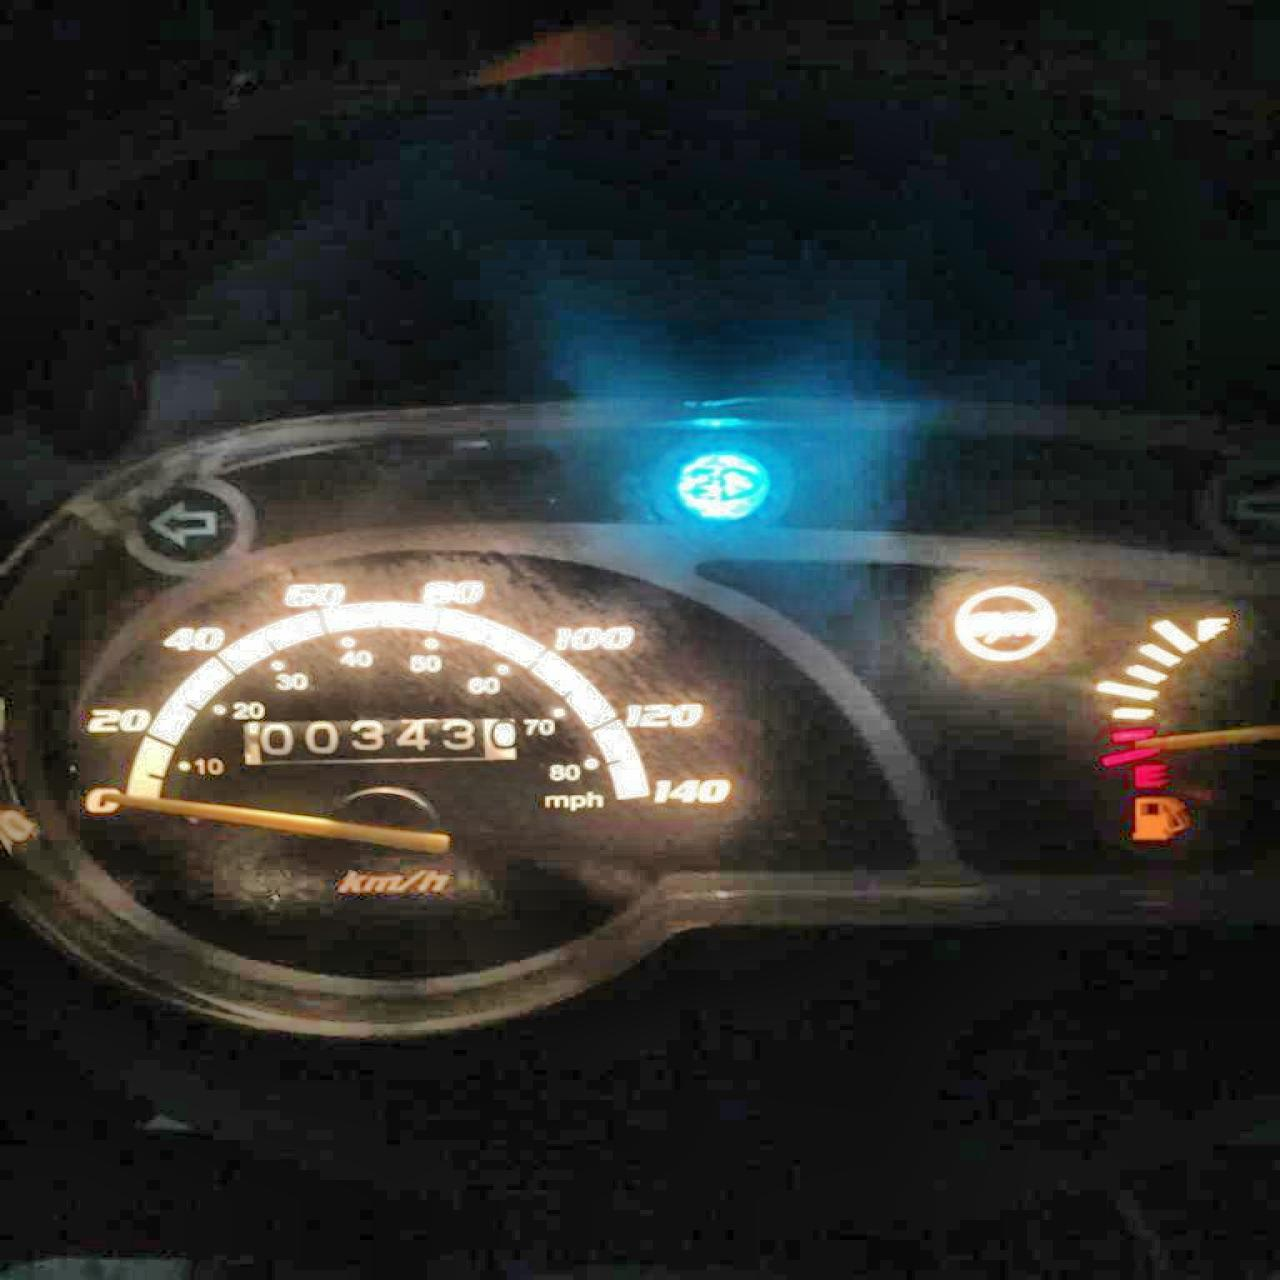0: (299, 719, 339, 755), (257, 720, 292, 755), (485, 717, 517, 750)
3: (435, 717, 475, 751), (345, 717, 384, 751)
4: (390, 717, 428, 753)
odometer: (233, 713, 524, 767)
